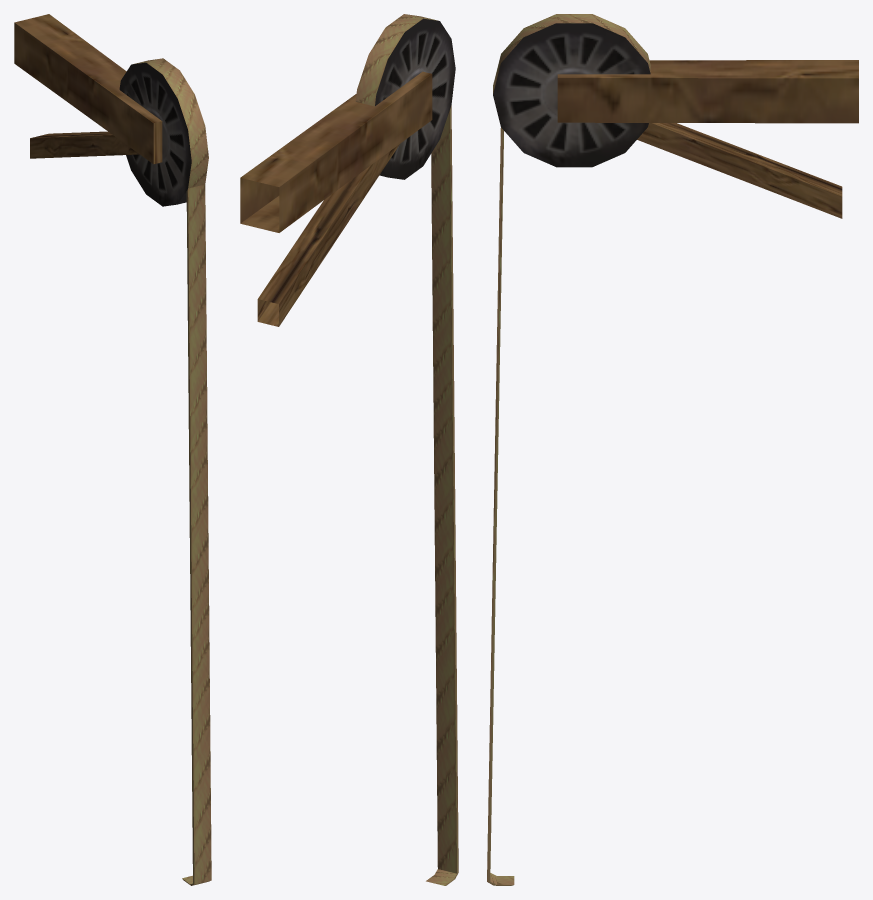
The model's file is fanasty_mod_winch.fbx.
3 views of the same model, side by side, from view 1: azimuth 30°, elevation 25°; view 2: azimuth 150°, elevation 25°; view 3: azimuth 270°, elevation 25° (orthographic). The views are drawn at different scales.
Parts seen in each view (by area): view 1: winch; view 2: winch; view 3: winch.
Boxes of the visible parts, x1,y1,x2,y2 form: winch: (14, 14, 211, 885); winch: (240, 14, 458, 885); winch: (487, 14, 858, 885).
Bounding box in the file's own units: 0.2367 × 5.13 × 2.
